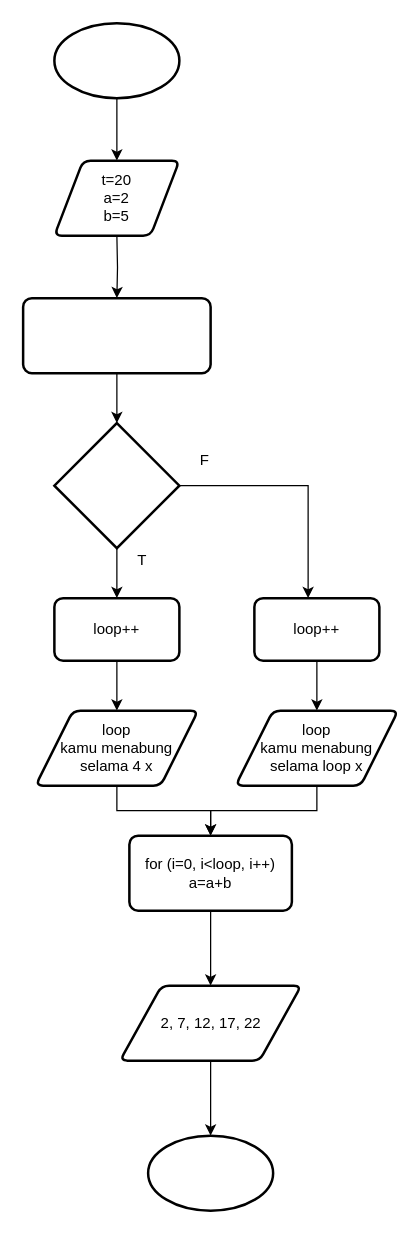
The diagram is 420 pixels wide and 1233 high, and some of its shapes have lost their labels. The box of each missing label's shape, as (x1, y1, x2, y2) in pixels:
if (t-a)%b)!=0: (52, 421, 180, 549)
loop = ((t - a)/b): (21, 296, 211, 374)
selesai: (146, 1134, 274, 1211)
start: (52, 21, 180, 99)
